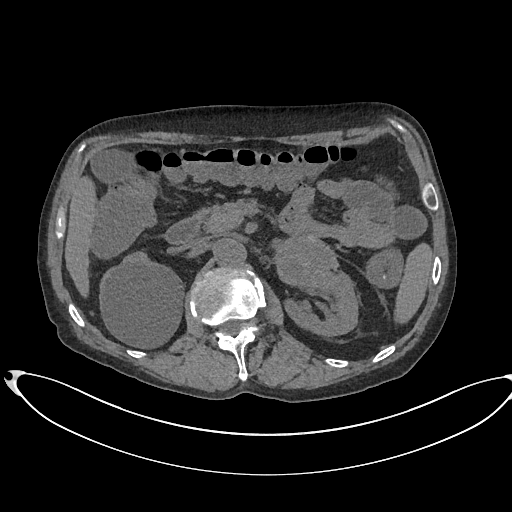Lesion: (267, 234, 342, 286)
